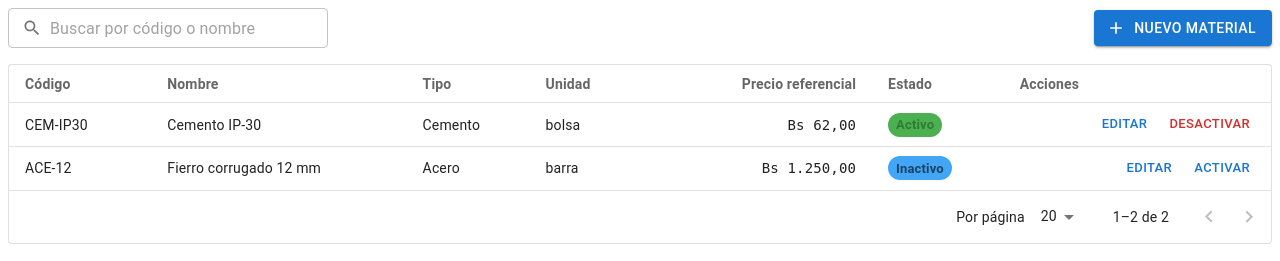
CatalogoPagina › busca por código o nombre en el gateway
Expected: the text "CEM-IP30" is shown, x1=9 y1=103 x2=151 y2=147
Type "fierro" into the field labelled "Buscar por código o nombre" at (189, 28), box x1=50 y1=8 x2=328 y2=48
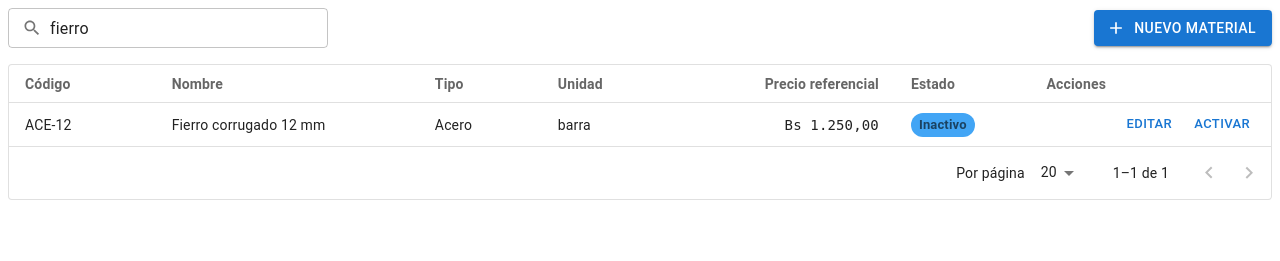
Expected: the text "ACE-12" is shown, x1=9 y1=103 x2=156 y2=147
Result: the text "CEM-IP30" is gone
